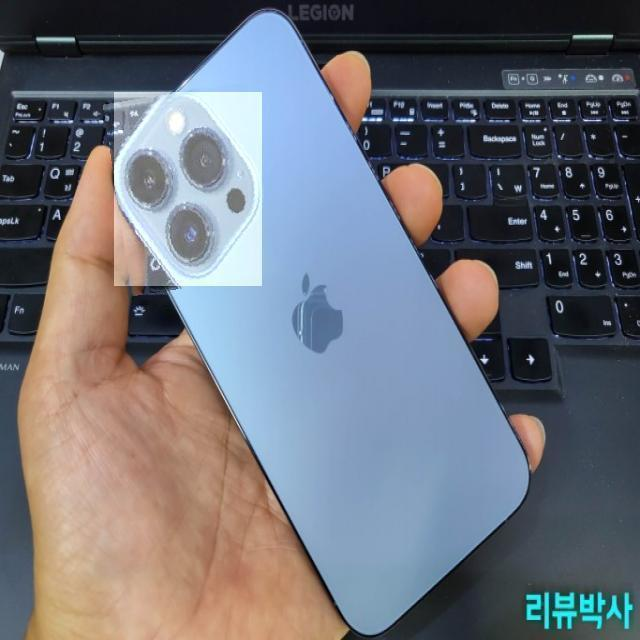lens: (128, 122, 248, 268)
phone: (112, 18, 535, 631)
